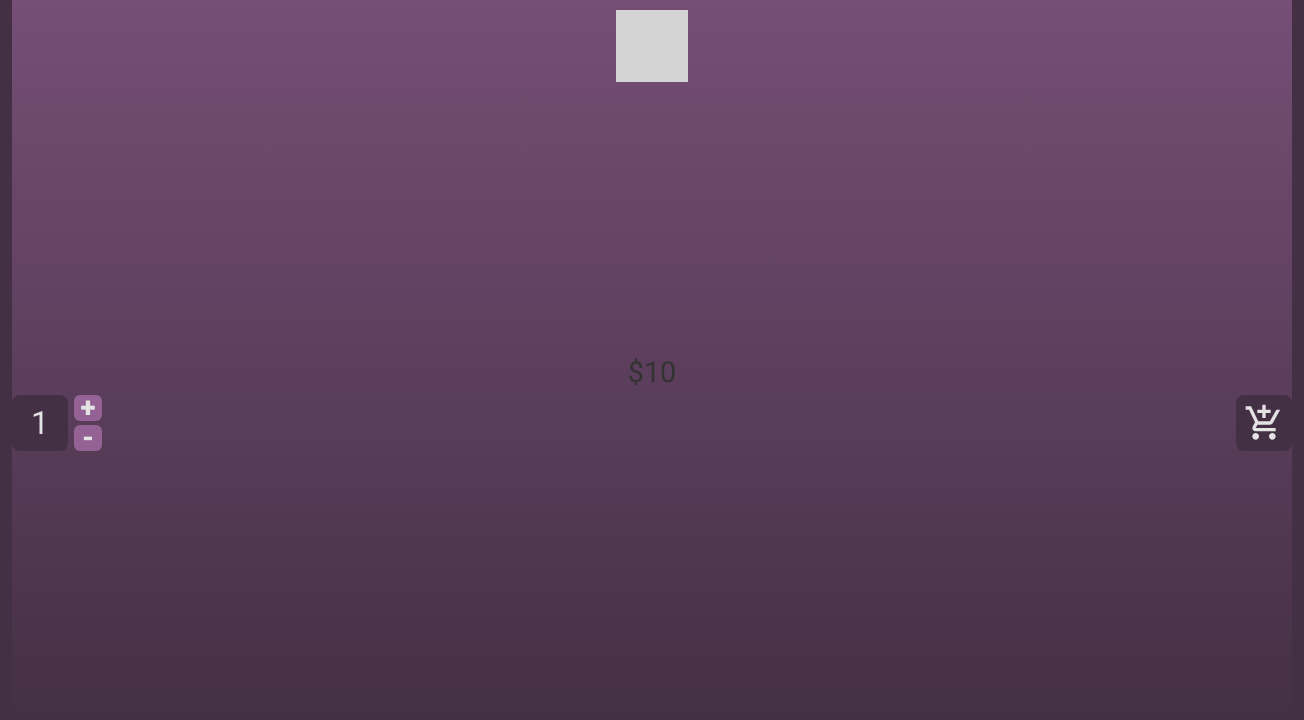
Scenario: increments quantity when + button is clicked
What coordinates should you click on to do the following:
click the button "+"
I would click on:
 (88, 408)
Its box is [74, 395, 102, 421].
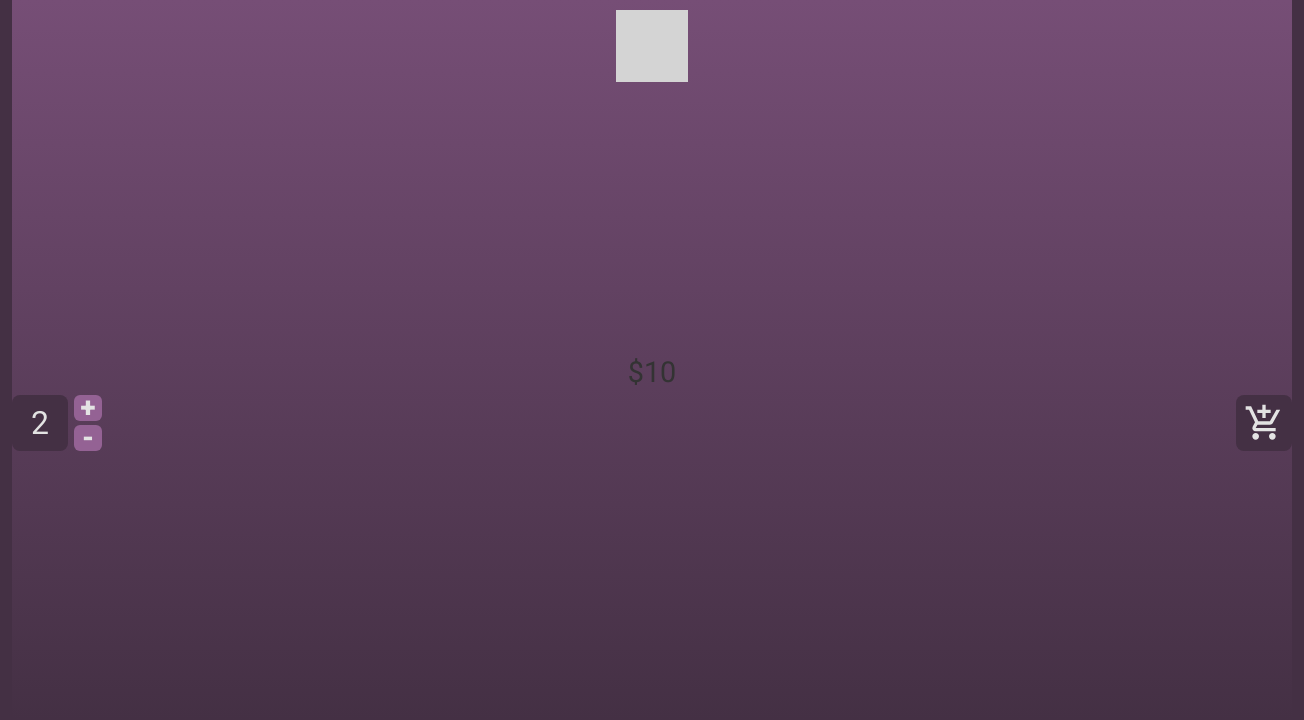
Check: the number field holds "2", box [12, 395, 68, 451]
